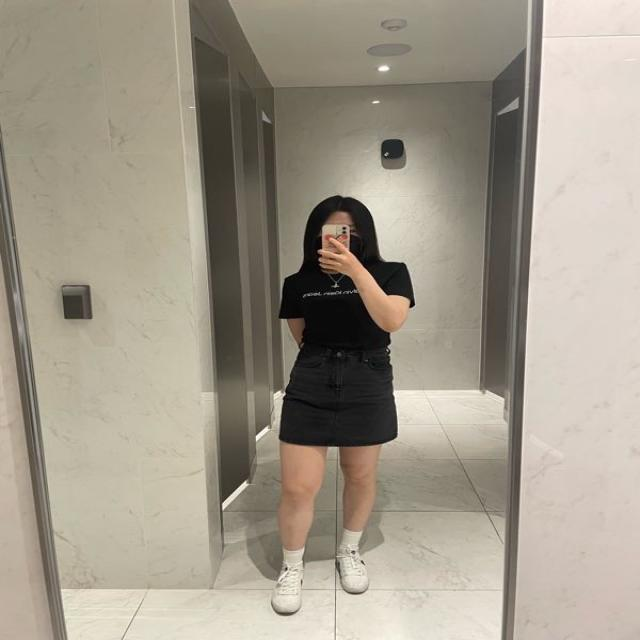shortsleeve: (281, 256, 416, 351)
skirt: (278, 346, 406, 452)
